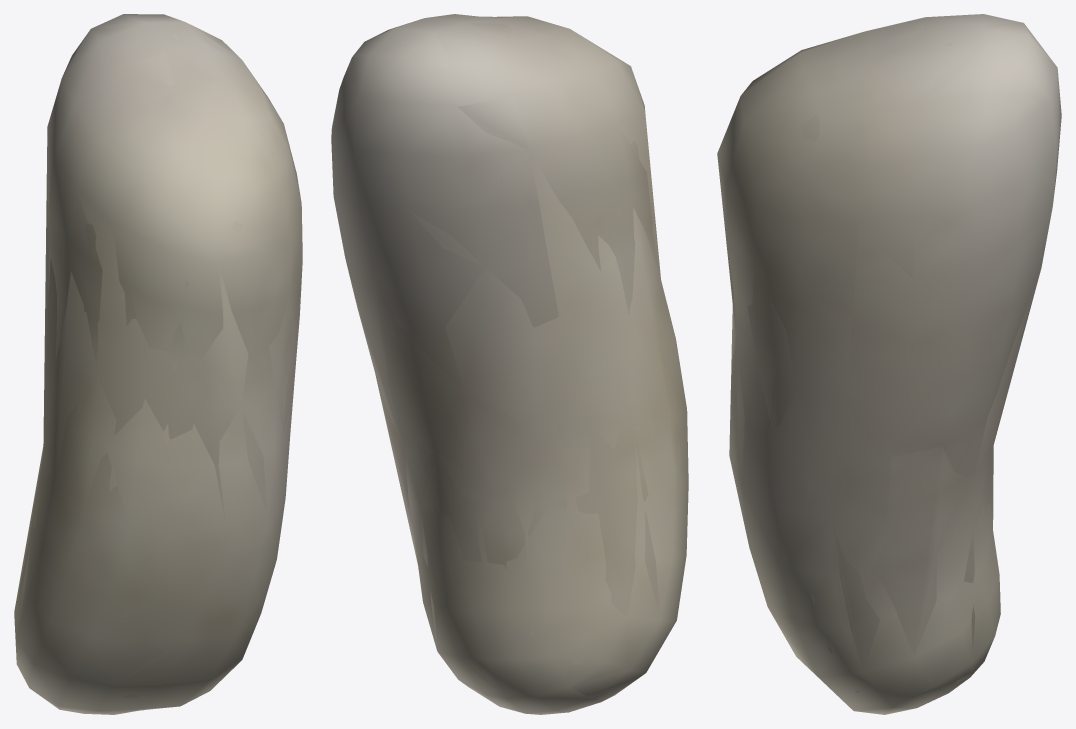
File: L metacarpi primum.fbx
The picture shows the model from 3 angles, left to right: view 1: azimuth 30°, elevation 25°; view 2: azimuth 150°, elevation 25°; view 3: azimuth 270°, elevation 25°; orthographic projection. The views are drawn at different scales.
Parts seen in each view (by area): view 1: L metacarpi primum, L metacarpi primum low, L metacarpi primum high; view 2: L metacarpi primum, L metacarpi primum low, L metacarpi primum high; view 3: L metacarpi primum, L metacarpi primum low, L metacarpi primum high.
Part boxes in pixels (x1,y1,x2,y2): L metacarpi primum: [14, 14, 302, 714]; L metacarpi primum low: [15, 14, 300, 710]; L metacarpi primum high: [41, 18, 287, 710]; L metacarpi primum: [331, 14, 688, 714]; L metacarpi primum low: [332, 23, 669, 698]; L metacarpi primum high: [400, 16, 680, 699]; L metacarpi primum: [717, 14, 1061, 714]; L metacarpi primum low: [717, 17, 1057, 714]; L metacarpi primum high: [730, 31, 1002, 699].
Size of the model in its own units: 0.4213 by 0.9396 by 0.4202.
1 material, 1 textured.
